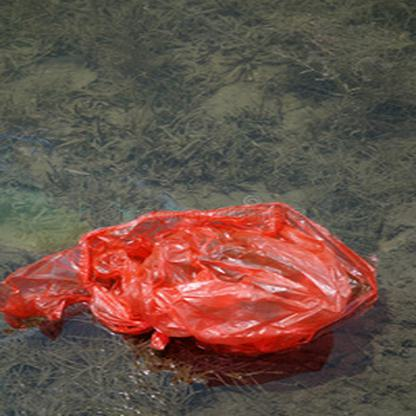plastic bag: (3, 200, 377, 353)
